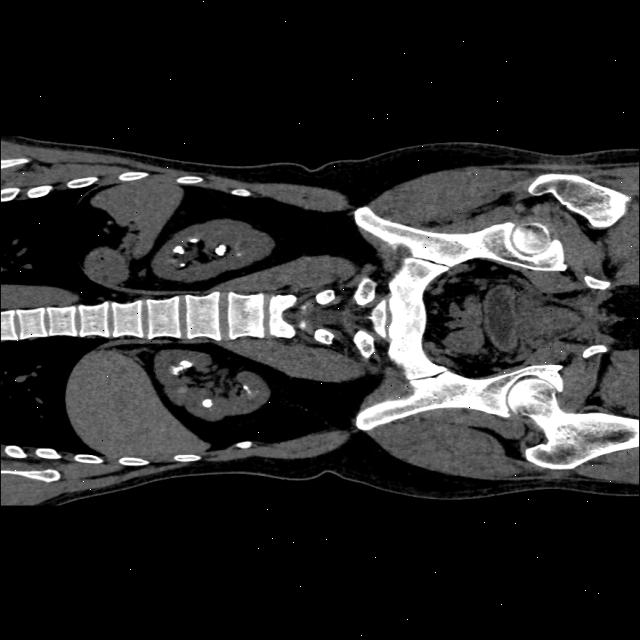kidneystone: (171, 359, 191, 375), (215, 244, 228, 255), (202, 398, 212, 408), (173, 245, 184, 254), (242, 384, 249, 391), (174, 262, 184, 266), (190, 238, 199, 242)
